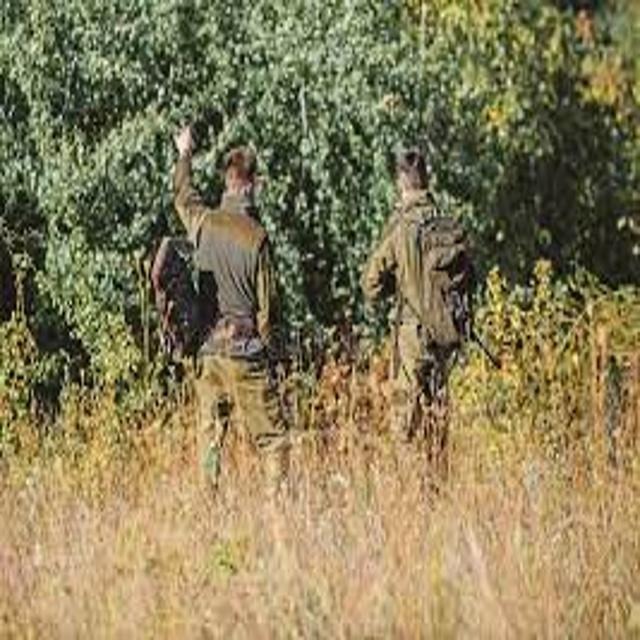backpack: (381, 195, 498, 360), (121, 209, 232, 373)
poacher: (126, 95, 343, 528), (317, 114, 530, 535)
